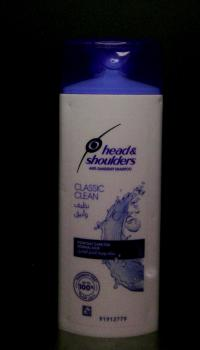dent_marginal: (61, 95, 79, 119), (142, 262, 158, 284), (152, 93, 164, 113)
